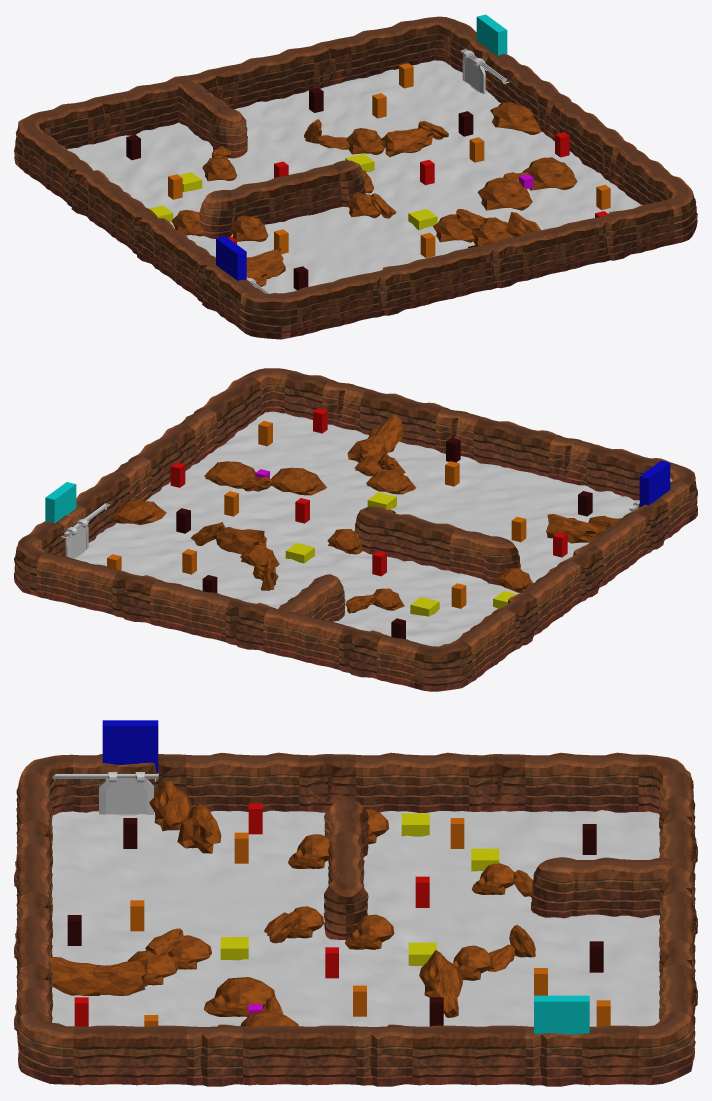
The model's file is level1_b08_45_final.FBX.
3 views of the same model, one above another, from view 1: azimuth 30°, elevation 25°; view 2: azimuth 150°, elevation 25°; view 3: azimuth 270°, elevation 25° (orthographic). The views are drawn at different scales.
Visible parts, largest first — view 1: level1_column01, Plane074, GeoSphere016, GeoSphere021, pCube5, pCube4, level1_door; view 2: level1_column01, Plane074, GeoSphere016, GeoSphere021, pCube5, pCube4, level1_door; view 3: level1_column01, Plane074, GeoSphere021, GeoSphere016, pCube5, pCube4, level1_door001, Trap4, Trap1, Trap3, Trap2.
Boxes of the visible parts, left/top/right/bottom form: level1_column01: left=14, top=16, right=697, bottom=339; Plane074: left=67, top=60, right=641, bottom=293; GeoSphere016: left=172, top=102, right=577, bottom=245; GeoSphere021: left=211, top=119, right=540, bottom=286; pCube5: left=216, top=236, right=246, bottom=280; pCube4: left=476, top=14, right=507, bottom=55; level1_door: left=462, top=50, right=485, bottom=93; level1_column01: left=14, top=368, right=697, bottom=691; Plane074: left=74, top=411, right=639, bottom=646; GeoSphere016: left=110, top=455, right=532, bottom=610; GeoSphere021: left=191, top=414, right=622, bottom=613; pCube5: left=639, top=460, right=670, bottom=507; pCube4: left=45, top=482, right=76, bottom=523; level1_door: left=65, top=519, right=88, bottom=558; level1_column01: left=14, top=752, right=697, bottom=1086; Plane074: left=51, top=810, right=660, bottom=1026; GeoSphere021: left=49, top=780, right=535, bottom=1017; GeoSphere016: left=127, top=809, right=514, bottom=1026; pCube5: left=102, top=720, right=158, bottom=773; pCube4: left=534, top=995, right=589, bottom=1034; level1_door001: left=99, top=772, right=153, bottom=815; Trap4: left=401, top=813, right=429, bottom=836; Trap1: left=220, top=937, right=248, bottom=960; Trap3: left=471, top=848, right=499, bottom=871; Trap2: left=408, top=942, right=436, bottom=965.
Size of the model in its own units: 1934 by 305 by 1935.
